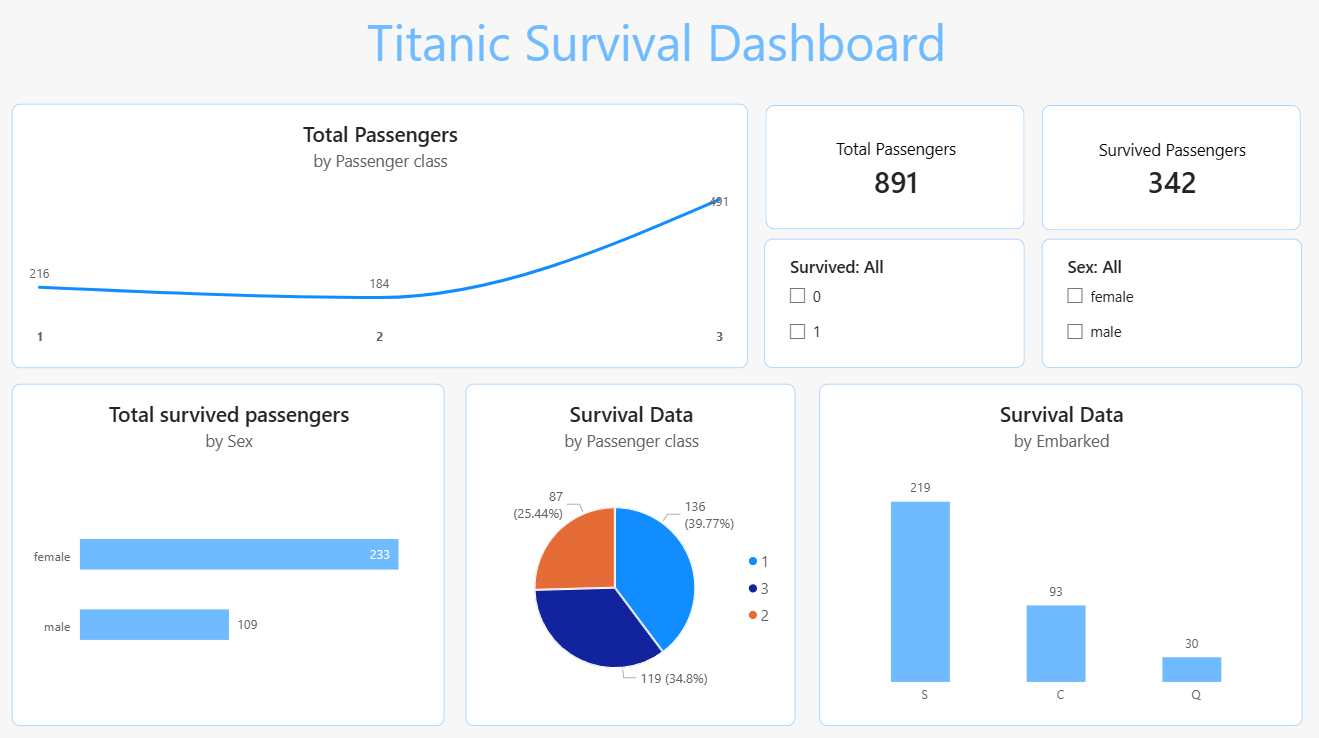

What the dashboard file says about the page in this screenshot:
{"tool":"powerbi","page":{"name":"Page 1","canvas":[1280,720],"ordinal":0},"visuals":[{"type":"group","id":"g1","title":"Group 1","box":[741.2,106.2,517.2,121.2],"z":0},{"type":"cardVisual","fields":{"Data":["CountNonNull(titanic_dataset.PassengerId)"]},"box":[741.2,106.5,250.8,120.5],"z":0,"group":"g1"},{"type":"slicer","fields":{"Values":["titanic_dataset.Sex"]},"box":[1007.4,235,251.4,125],"z":0,"group":"g2"},{"type":"cardVisual","fields":{"Data":["Sum(titanic_dataset.Survived)"]},"box":[1008.4,106.2,250,121.2],"z":1000,"group":"g1"},{"type":"slicer","fields":{"Values":["titanic_dataset.Survived"]},"box":[740,235,251.4,125],"z":1000,"group":"g2"},{"type":"barChart","title":"Total survived passengers ","fields":{"Category":["titanic_dataset.Sex"],"Y":["Sum(titanic_dataset.Survived)"]},"box":[13.8,375,417.5,330],"z":1000},{"type":"pieChart","title":"Survival Data ","fields":{"Category":["titanic_dataset.Pclass"],"Y":["Sum(titanic_dataset.Survived)"]},"box":[451.2,375,318.8,330],"z":2000},{"type":"columnChart","fields":{"Category":["titanic_dataset.Embarked"],"Y":["Sum(titanic_dataset.Survived)"]},"box":[792.5,375,466.2,330],"z":3000},{"type":"lineChart","title":"Total Passengers  ","fields":{"Category":["titanic_dataset.Pclass"],"Y":["CountNonNull(titanic_dataset.PassengerId)"]},"box":[13.8,105,710,255],"z":4000},{"type":"group","id":"g2","title":"Group 2","box":[740,235,518.8,125],"z":5000},{"type":"textbox","box":[13.8,12.5,1245,82.5],"z":5001}]}

Visuals, with their boxes in screenshot pixels (x1, y1, x2, y2), scaled from the page's 1280x720 canvas onto the 1319x738 screenshot:
"Group 1" group: [left=764, top=109, right=1297, bottom=233]
cardVisual - CountNonNull(titanic_dataset.PassengerId): [left=764, top=109, right=1022, bottom=233]
slicer - titanic_dataset.Sex: [left=1038, top=241, right=1297, bottom=369]
cardVisual - Sum(titanic_dataset.Survived): [left=1039, top=109, right=1297, bottom=233]
slicer - titanic_dataset.Survived: [left=763, top=241, right=1022, bottom=369]
"Total survived passengers " barChart: [left=14, top=384, right=444, bottom=723]
"Survival Data " pieChart: [left=465, top=384, right=793, bottom=723]
columnChart - titanic_dataset.Embarked x Sum(titanic_dataset.Survived): [left=817, top=384, right=1297, bottom=723]
"Total Passengers  " lineChart: [left=14, top=108, right=746, bottom=369]
"Group 2" group: [left=763, top=241, right=1297, bottom=369]
textbox: [left=14, top=13, right=1297, bottom=97]
